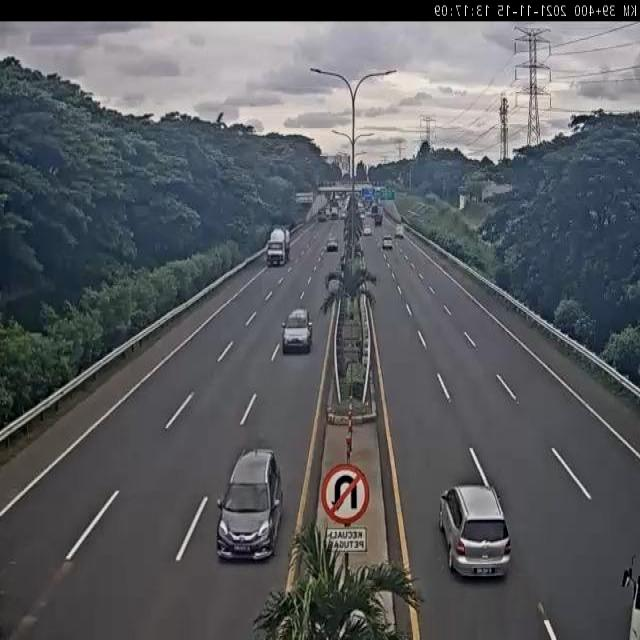Car: (216, 450, 283, 563), (439, 486, 509, 579), (281, 307, 312, 351), (382, 233, 393, 249), (326, 237, 338, 251)
Truck: (265, 227, 291, 268)
